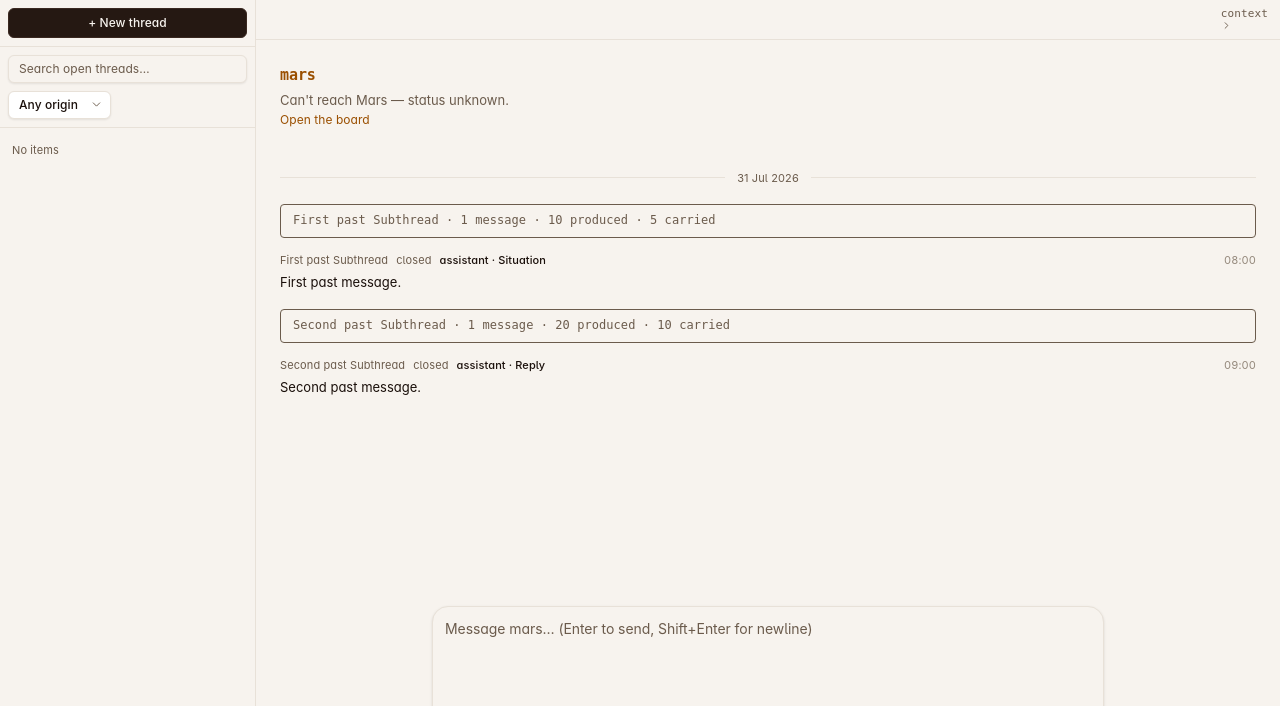
Scenario: ChatPage – handleOpenSubthread: chip opens Subthread inline › keeps closed Subthread messages expanded in the chronological feed
What coordinates should you click on to do the following:
click the button with test id "chat-greeting-next-move"
I would click on:
 (325, 120)
Its box is top-left (280, 112), bottom-right (370, 128).
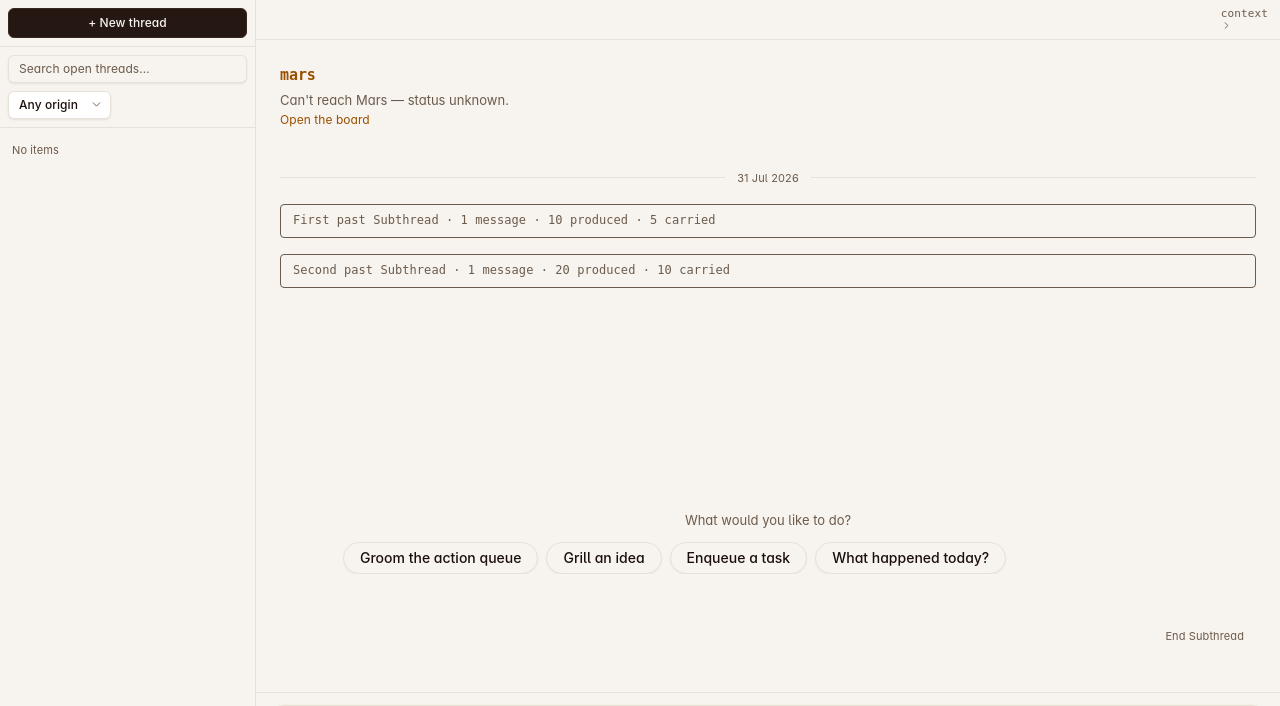
Expected: the element with test id "active-subthread" is shown, top-left (280, 462), bottom-right (1256, 642)
